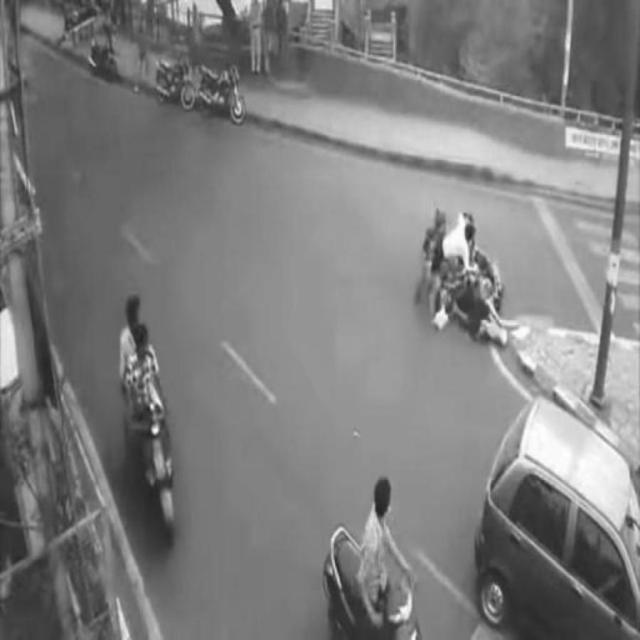accident: (422, 208, 515, 345)
vehicle: (479, 397, 639, 640), (112, 292, 182, 543), (327, 478, 435, 640), (195, 66, 252, 124), (155, 59, 199, 113)
